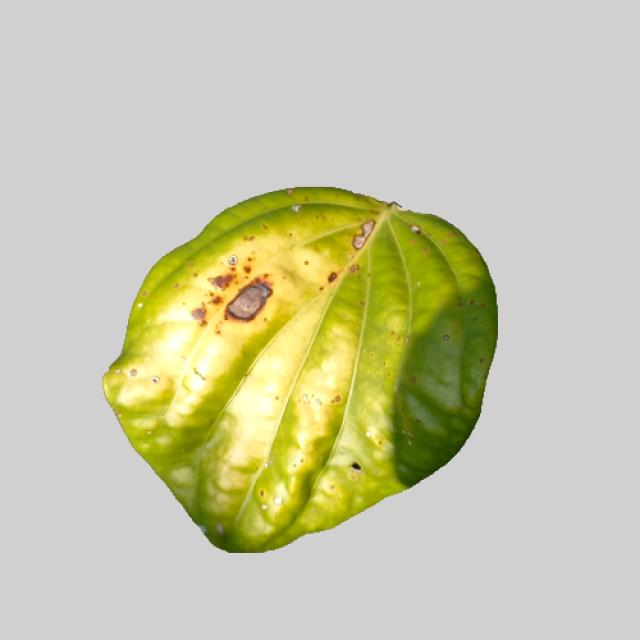leaf-blight: (90, 189, 504, 557)
